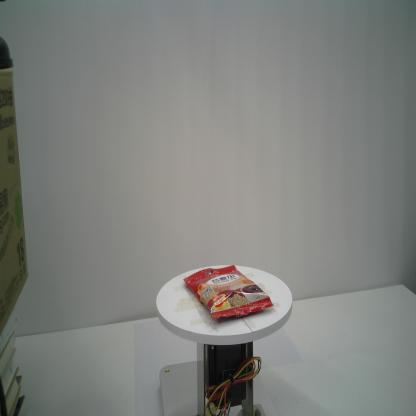Instant Drink: (183, 264, 275, 321)
